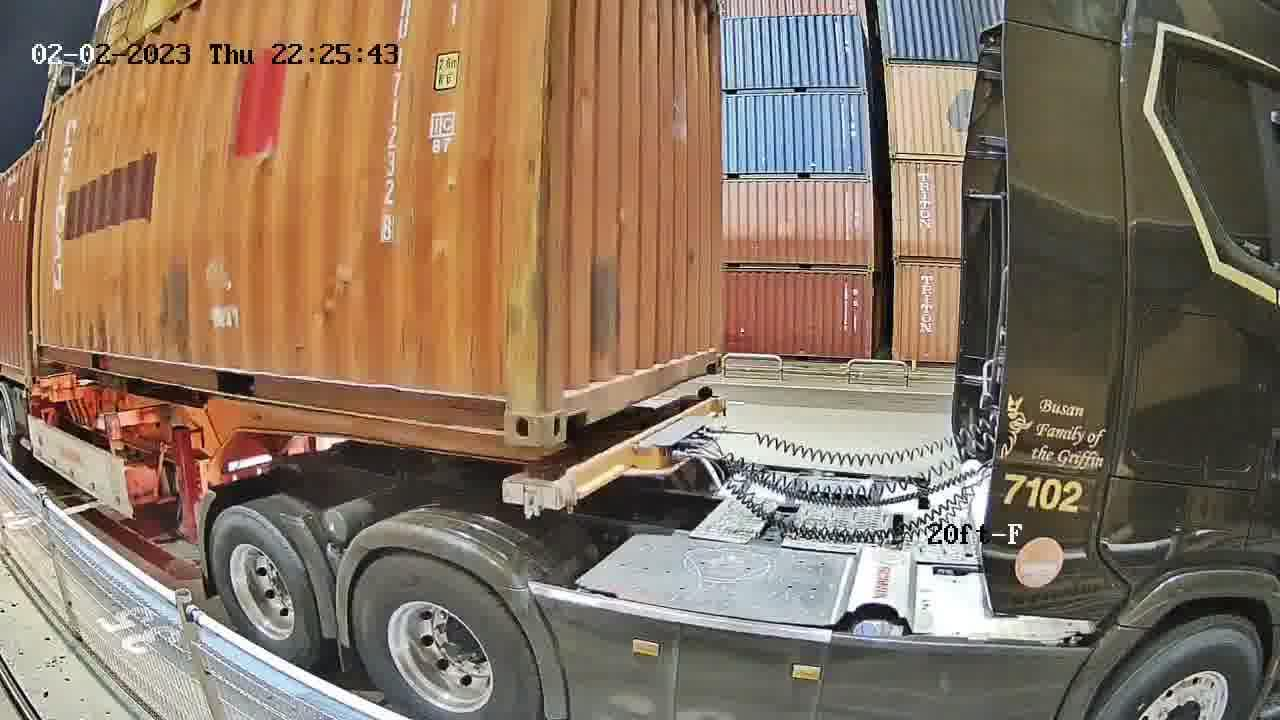Chassis: (507, 394, 722, 505)
Cone: (502, 479, 563, 508), (694, 388, 714, 403)
Hole_L: (544, 370, 596, 446)
Hole_R: (473, 376, 542, 449), (697, 332, 723, 376)
Tire: (349, 556, 540, 719), (211, 508, 319, 668)
